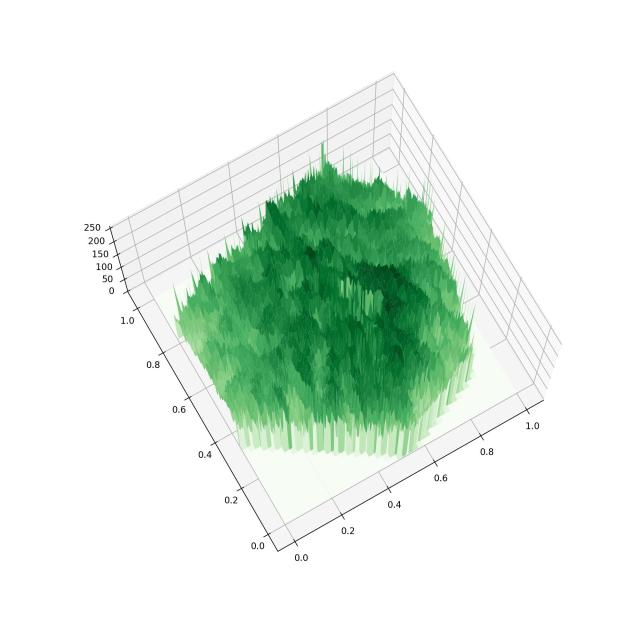trembling aspen: (39, 32, 592, 586)
